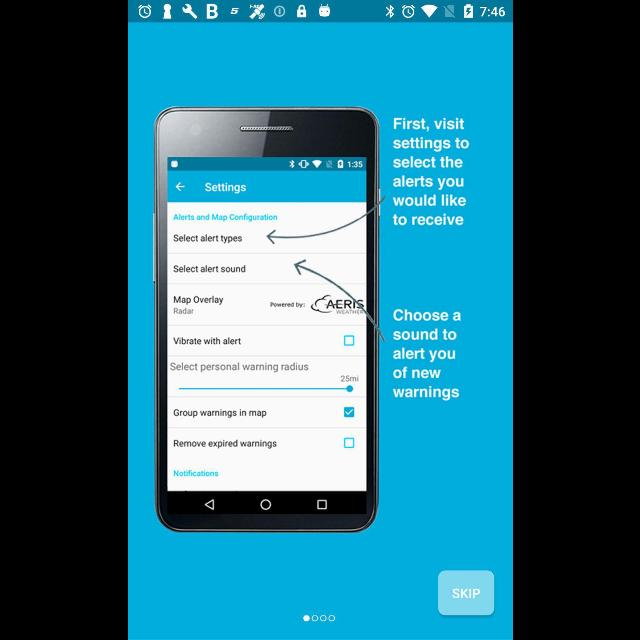image: (152, 105, 468, 532)
pageindicator: (302, 614, 334, 622)
textbutton: (437, 570, 493, 616)
uppertaskbar: (128, 1, 512, 23)
